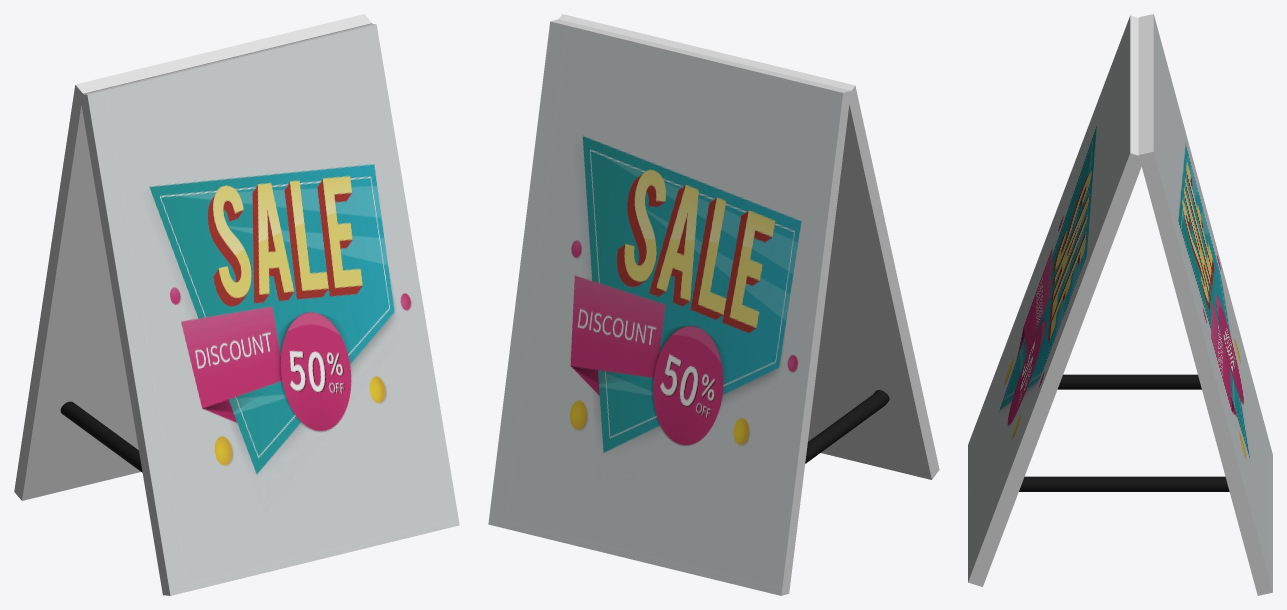
The model's file is Sign_Sale.fbx.
3 views of the same model, side by side, from view 1: azimuth 30°, elevation 25°; view 2: azimuth 150°, elevation 25°; view 3: azimuth 270°, elevation 25° (orthographic). The views are drawn at different scales.
Parts seen in each view (by area): view 1: Cube.001, Cube.002, Cylinder; view 2: Cube.002, Cube.001, Cylinder; view 3: Cube.001, Cube.002, Cylinder.001, Cylinder.
Boxes of the visible parts, x1=… form: Cube.001: x1=80, y1=24, x2=459, y2=595; Cube.002: x1=14, y1=14, x2=372, y2=500; Cylinder: x1=60, y1=401, x2=142, y2=472; Cube.002: x1=488, y1=19, x2=850, y2=595; Cube.001: x1=559, y1=14, x2=939, y2=479; Cylinder: x1=805, y1=390, x2=889, y2=463; Cube.001: x1=968, y1=15, x2=1144, y2=586; Cube.002: x1=1138, y1=14, x2=1272, y2=595; Cylinder.001: x1=1019, y1=476, x2=1229, y2=491; Cylinder: x1=1057, y1=374, x2=1201, y2=389.
Bounding box in the file's own units: 127 × 191 × 119.
Materials: 3 (1 with a texture image).
